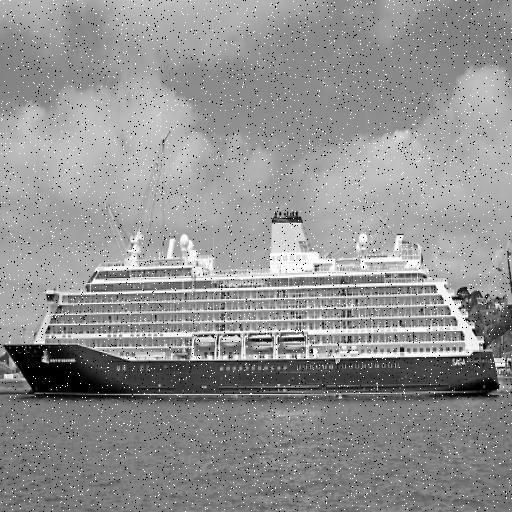cruises: (1, 205, 503, 408)
